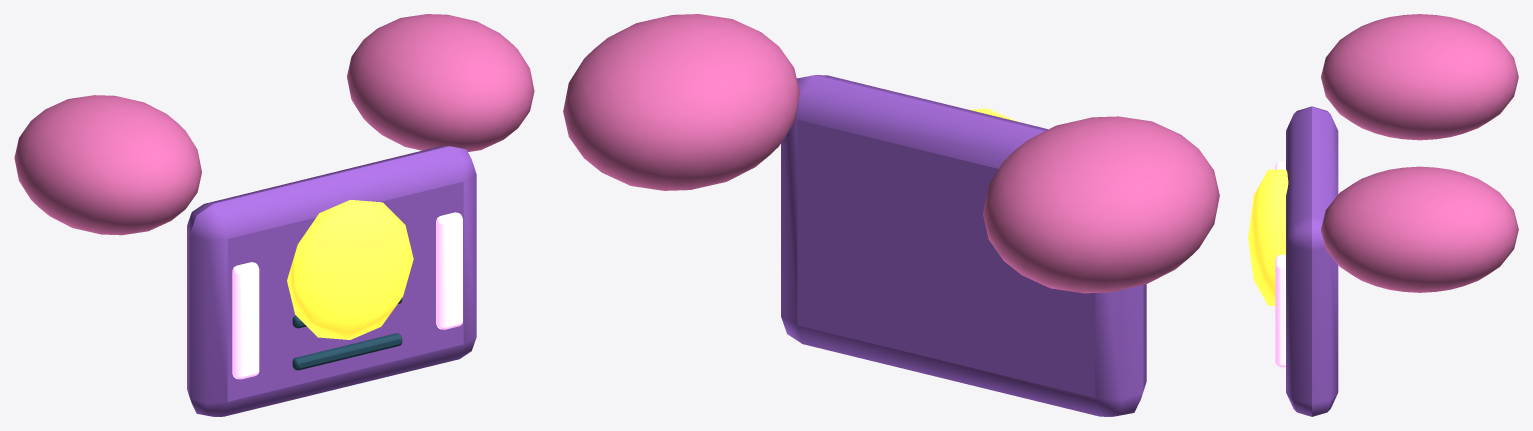
File: prism_armor.glb
3 views of the same model, side by side, from view 1: azimuth 30°, elevation 25°; view 2: azimuth 150°, elevation 25°; view 3: azimuth 270°, elevation 25° (orthographic). The views are drawn at different scales.
Visible parts, largest first — view 1: ChestPlate, PrismShoulder, ChestGem, ArmorInset, ArmorVent; view 2: ChestPlate, PrismShoulder; view 3: PrismShoulder, ChestPlate, ChestGem, ArmorInset.
Boxes of the visible parts, box(x1,y1,x2,y2) form: ChestPlate: box(187, 146, 476, 416); PrismShoulder: box(14, 14, 534, 235); ChestGem: box(287, 200, 413, 339); ArmorInset: box(232, 212, 462, 379); ArmorVent: box(292, 298, 402, 370); ChestPlate: box(781, 75, 1146, 416); PrismShoulder: box(563, 14, 1219, 293); PrismShoulder: box(1321, 14, 1518, 292); ChestPlate: box(1286, 106, 1338, 416); ChestGem: box(1248, 169, 1288, 305); ArmorInset: box(1275, 161, 1285, 367).
Size of the model in its own units: 1.82 by 0.99 by 0.93.
